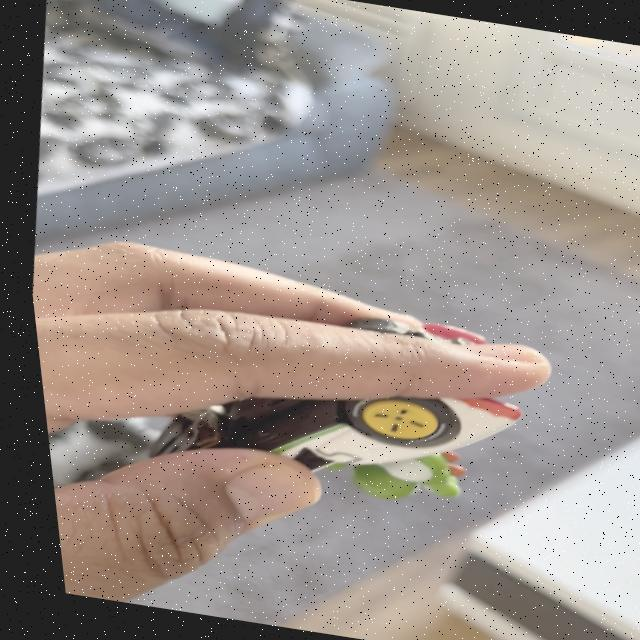yoshi: (219, 352, 494, 538)
